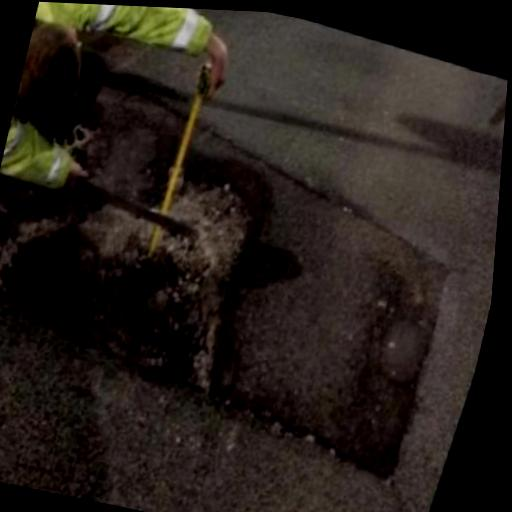pothole: (3, 231, 200, 384)
